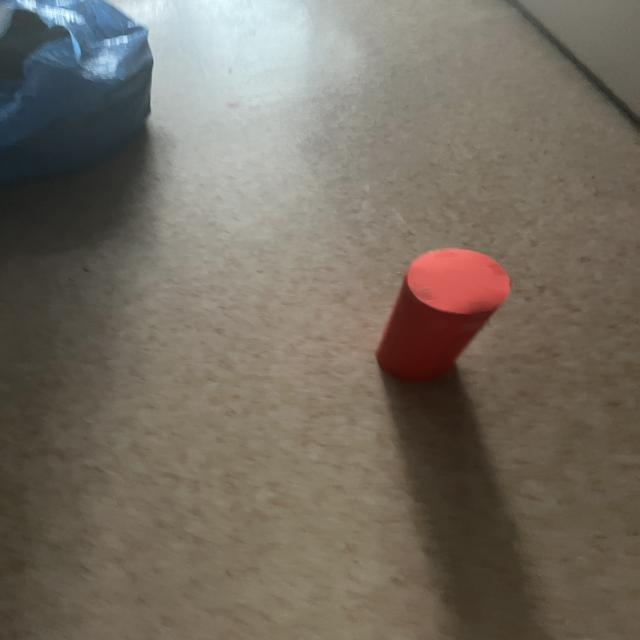przeszkoda: (376, 248, 510, 382)
